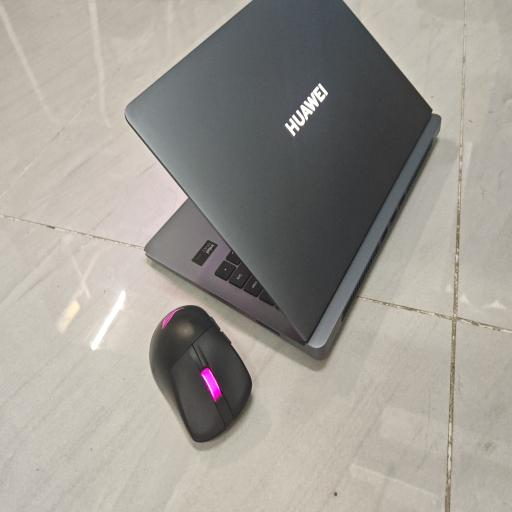laptop: (126, 0, 440, 358)
mouse: (149, 306, 252, 442)
